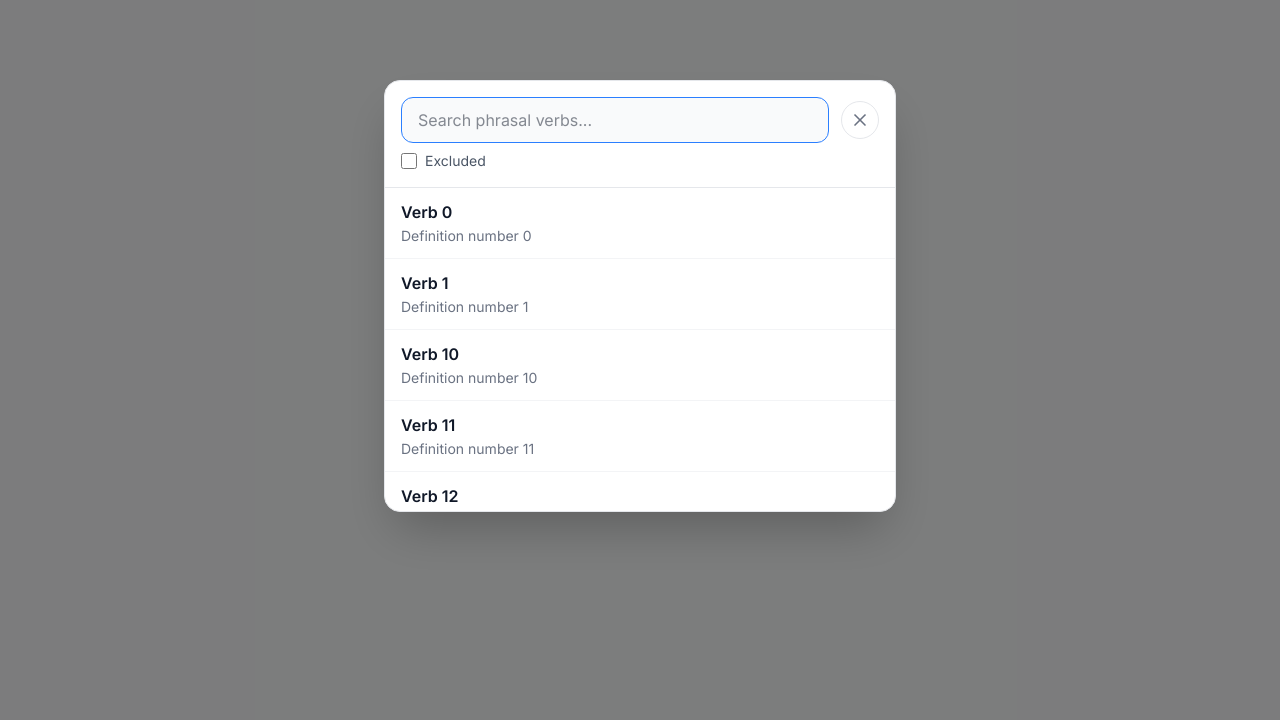
Scenario: SearchModal › Excluded checkbox › shows excluded verbs when checkbox is checked
This screenshot has width=1280, height=720.
Click the checkbox labelled "Excluded": click(409, 161) [401,153,417,169]
(page scrolled)
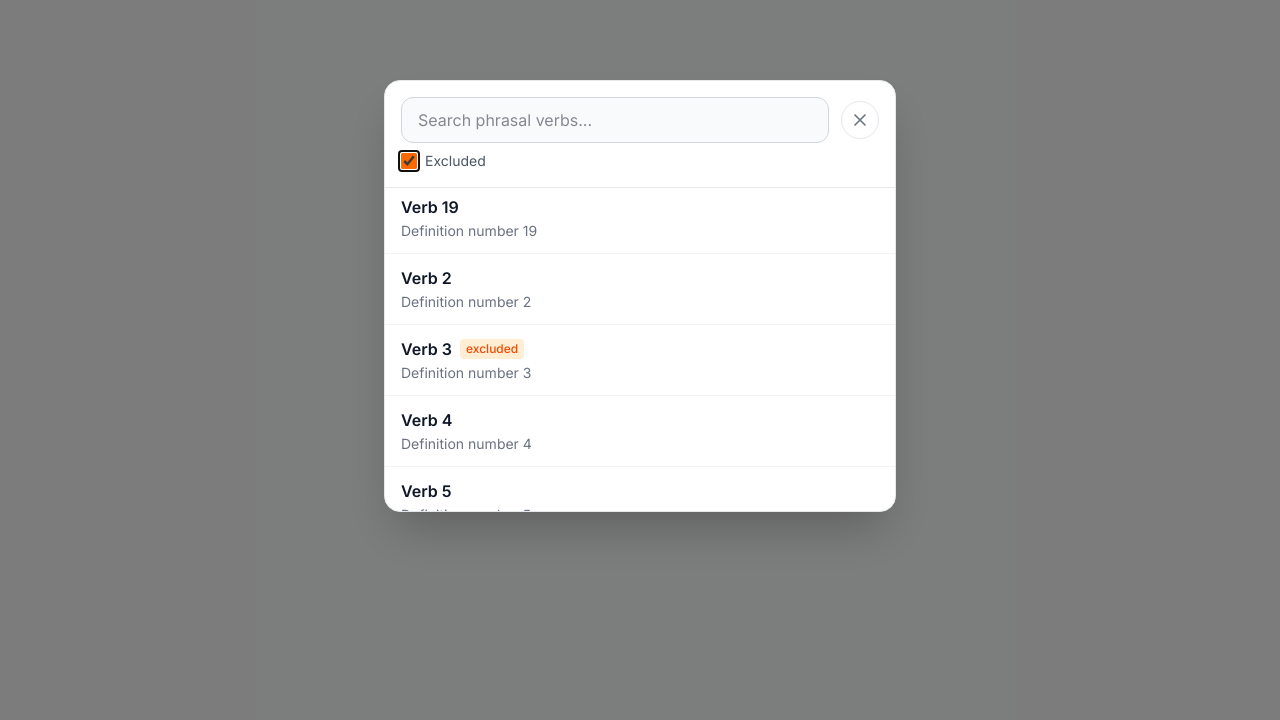
Expected: the text "Verb 3" is shown, [401,337,452,361]
